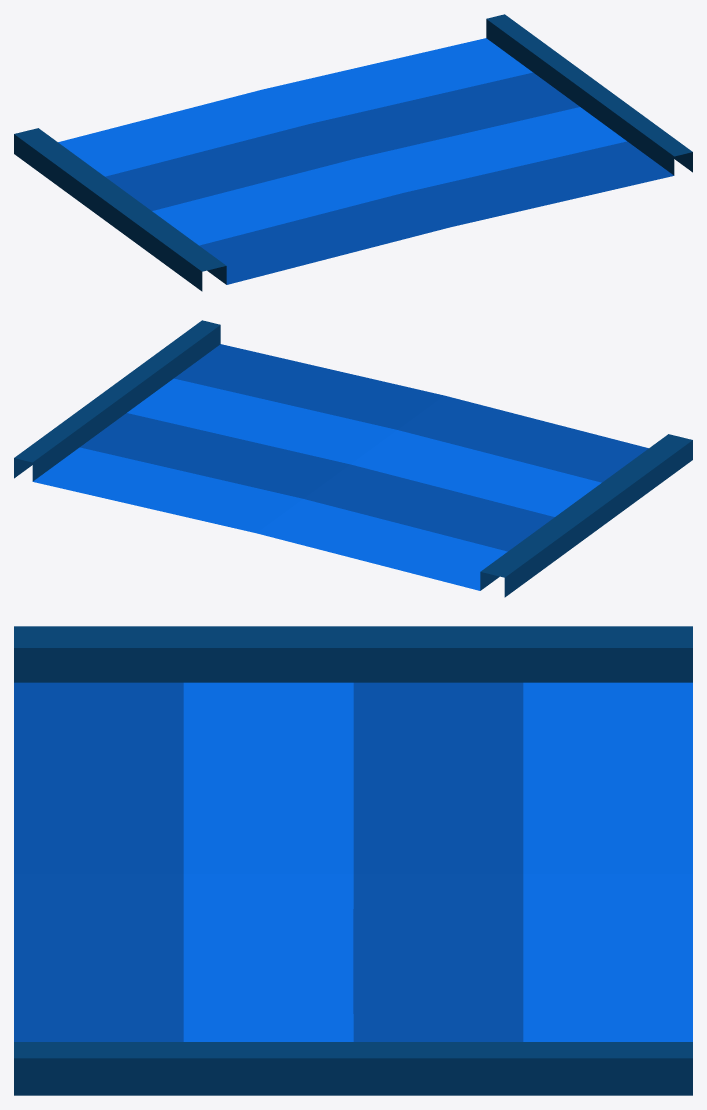
File: road xanh.fbx
3 views of the same model, one above another, from view 1: azimuth 30°, elevation 25°; view 2: azimuth 150°, elevation 25°; view 3: azimuth 270°, elevation 25° (orthographic). The views are drawn at different scales.
Parts seen in each view (by area): view 1: Road Profile; view 2: Road Profile; view 3: Road Profile.
Part boxes in pixels (x1,y1,x2,y2): Road Profile: (14,14,692,291); Road Profile: (14,320,692,597); Road Profile: (14,626,692,1095).
Size of the model in its own units: 638 by 25.66 by 424.
